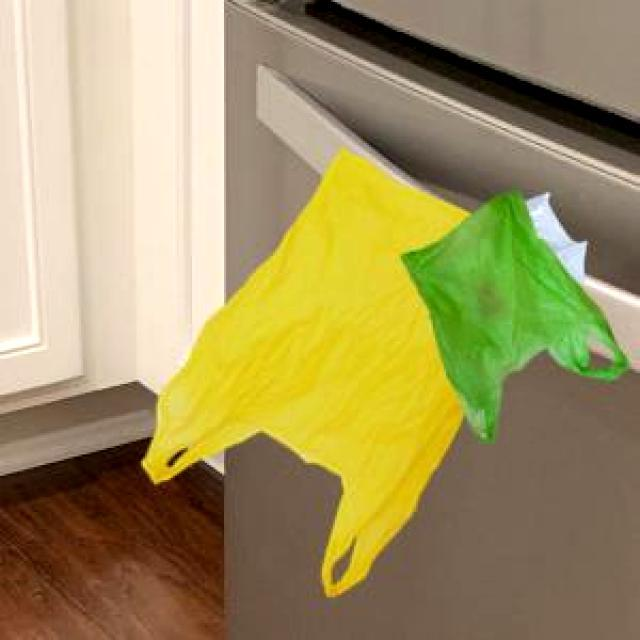Plastic_Bag: (140, 146, 468, 594), (398, 188, 626, 438), (522, 191, 584, 283)
